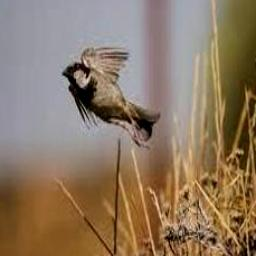Sparrow: (63, 45, 161, 149)
